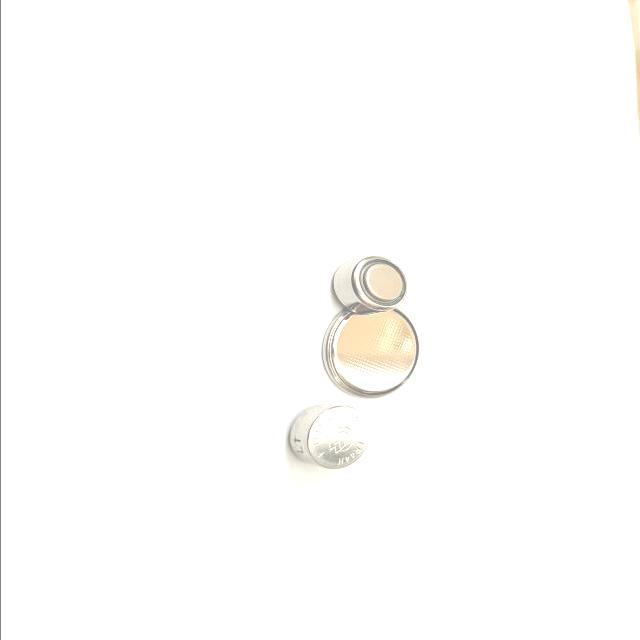COIN: (321, 307, 420, 398), (287, 404, 370, 470), (331, 256, 406, 314)
